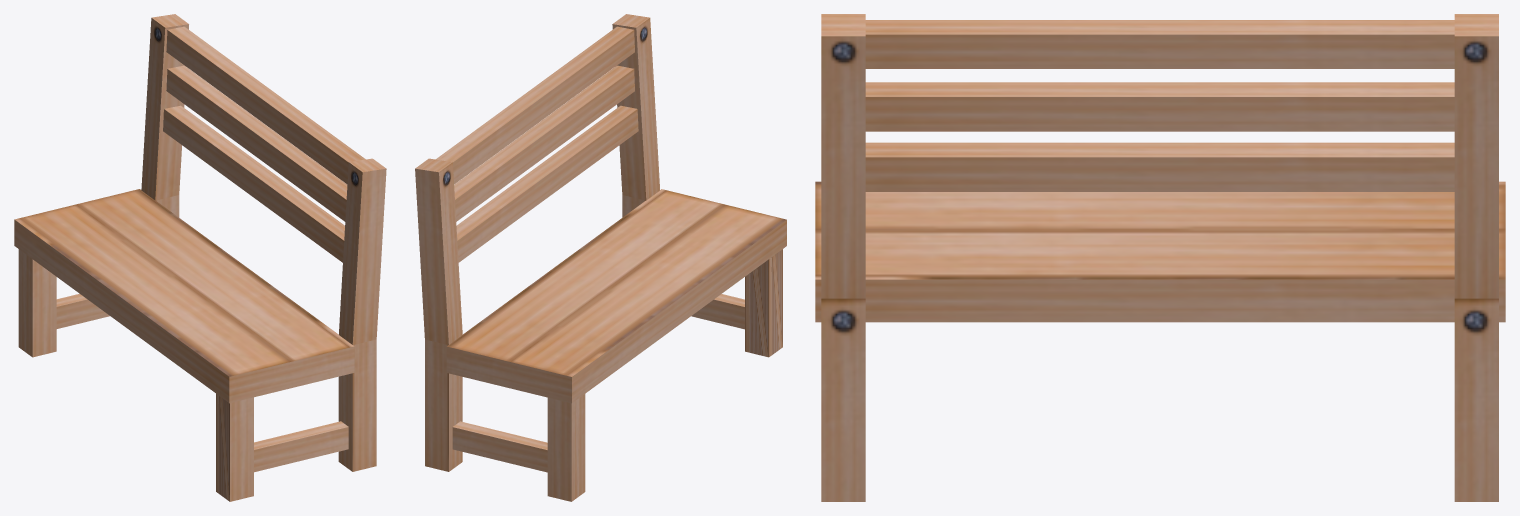
The model's file is chair2.fbx.
3 renders of one model, left to right at view 1: azimuth 30°, elevation 25°; view 2: azimuth 150°, elevation 25°; view 3: azimuth 270°, elevation 25°, orthographic. The views are drawn at different scales.
Visible parts, largest first — view 1: chair.001; view 2: chair.001; view 3: chair.001.
Part boxes in pixels (left/top/right/bottom): chair.001: left=14, top=14, right=386, bottom=501; chair.001: left=415, top=14, right=786, bottom=501; chair.001: left=815, top=14, right=1505, bottom=501.
Bounding box in the file's own units: 1.52 × 2.72 × 3.57.
